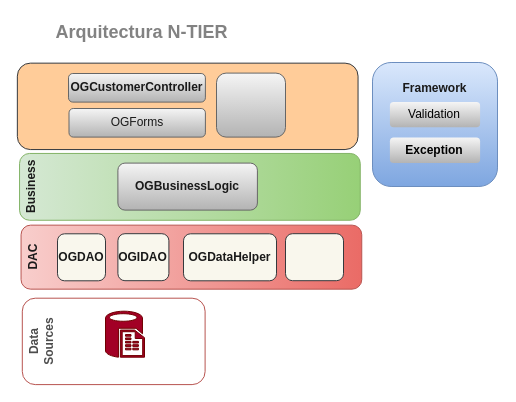
Image size: 516x402. Some labels were removed from this diagram. Here are the shapes that lost their labels. From the top down, the centre of each, then its label:
At [187,106]: "User Interface".
At [251,104]: "OGGUI".
At [314,257]: "OGDTO".
At [124,333]: "SQLITE".
